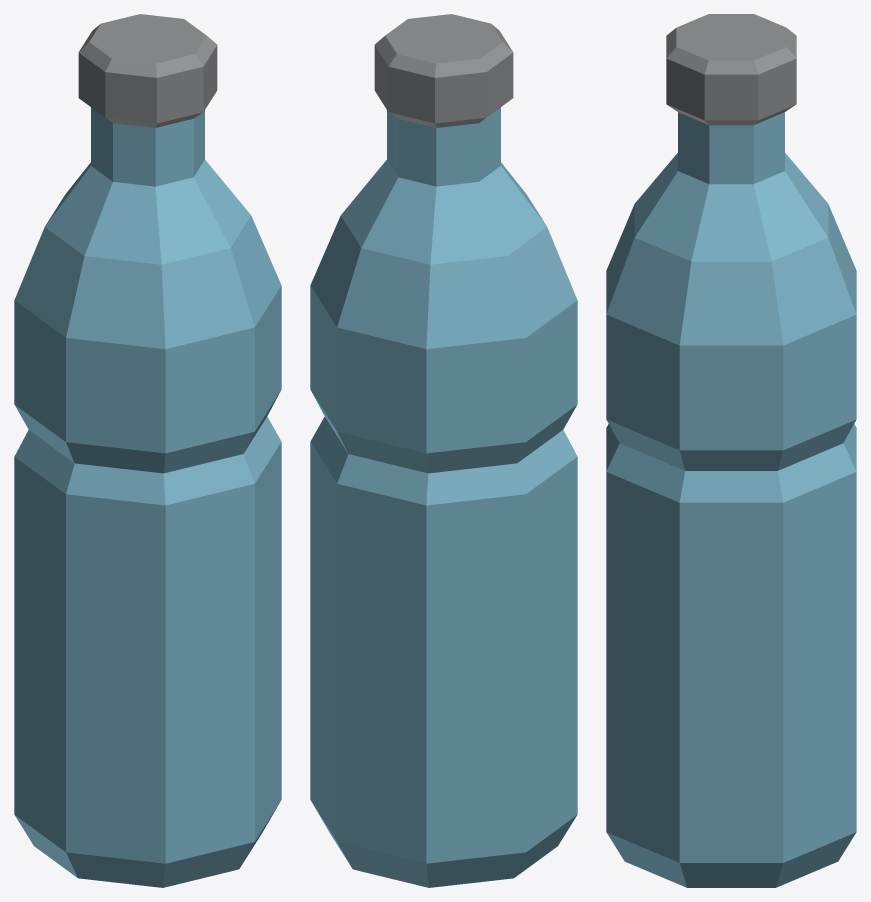
Rendered from SM_Clutter_Bottle_Blue_01.obj.
The picture shows the model from 3 angles, left to right: view 1: azimuth 30°, elevation 25°; view 2: azimuth 150°, elevation 25°; view 3: azimuth 270°, elevation 25°; orthographic projection.
Visible parts, largest first — view 1: SM_Clutter_Bottle_Blue_01; view 2: SM_Clutter_Bottle_Blue_01; view 3: SM_Clutter_Bottle_Blue_01.
Boxes of the visible parts, x1,y1,x2,y2 form: SM_Clutter_Bottle_Blue_01: (14,14,281,887); SM_Clutter_Bottle_Blue_01: (310,14,577,887); SM_Clutter_Bottle_Blue_01: (606,14,856,887).
Bounding box in the file's own units: 0.0693 × 0.246 × 0.0693.
1 material, 1 textured.
